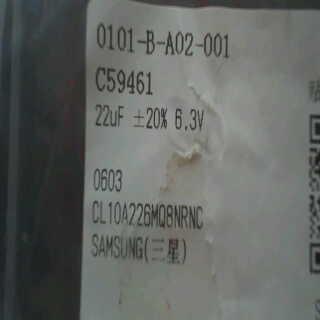22uF: (92, 101, 128, 136)
